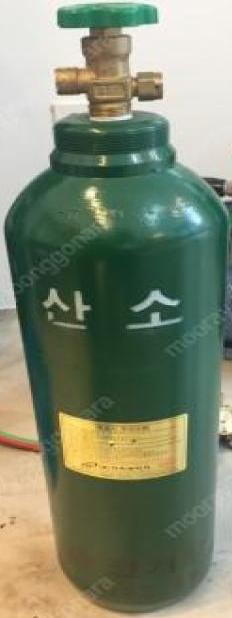cylinder: (1, 1, 232, 618)
